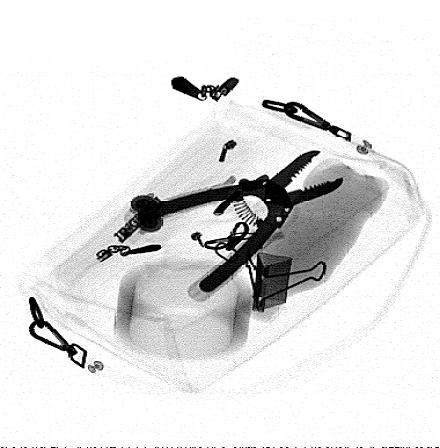Pliers: (136, 148, 347, 291)
